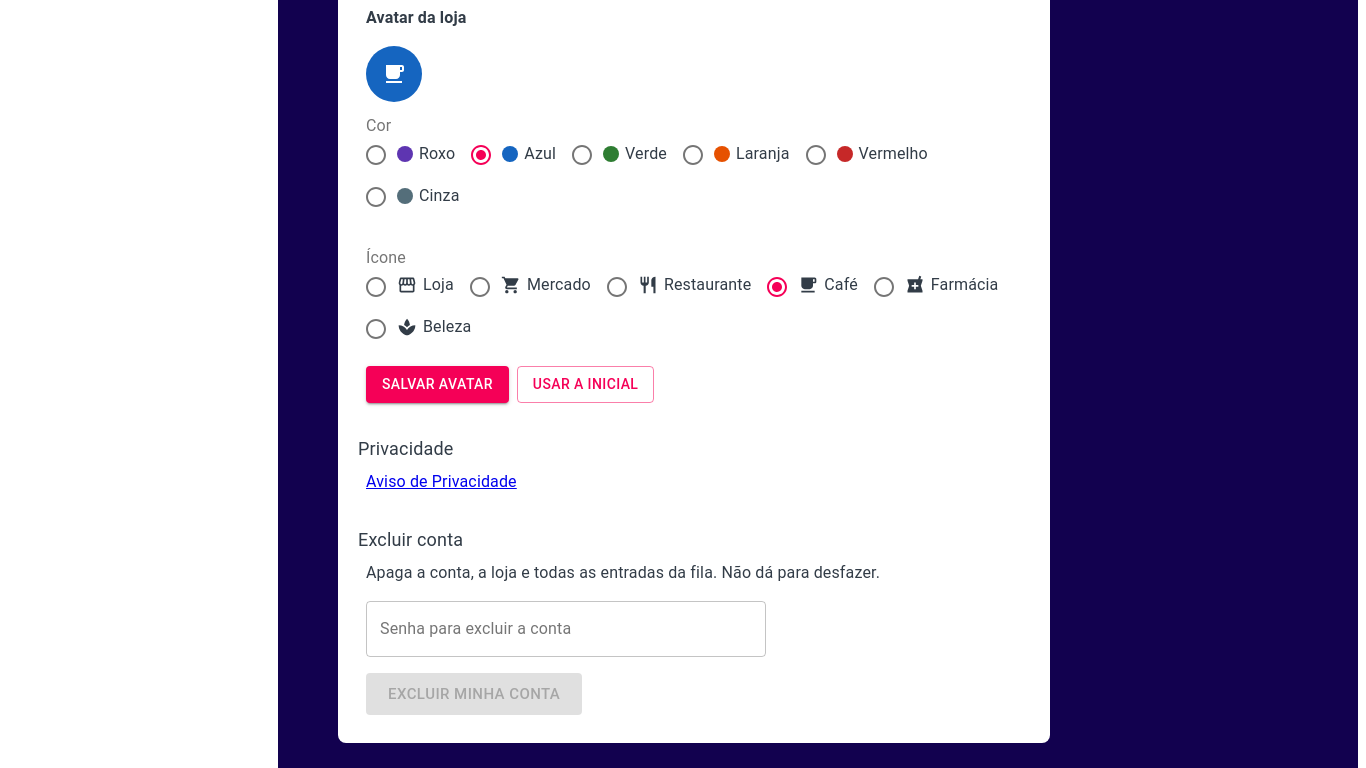
Avatar da loja no Perfil › "Usar a inicial": envia os dois nulos, avisa e a barra volta à inicial
(page scrolled)
Step 1. Click the button "Usar a inicial" → (586, 385), box [517,366,654,403]
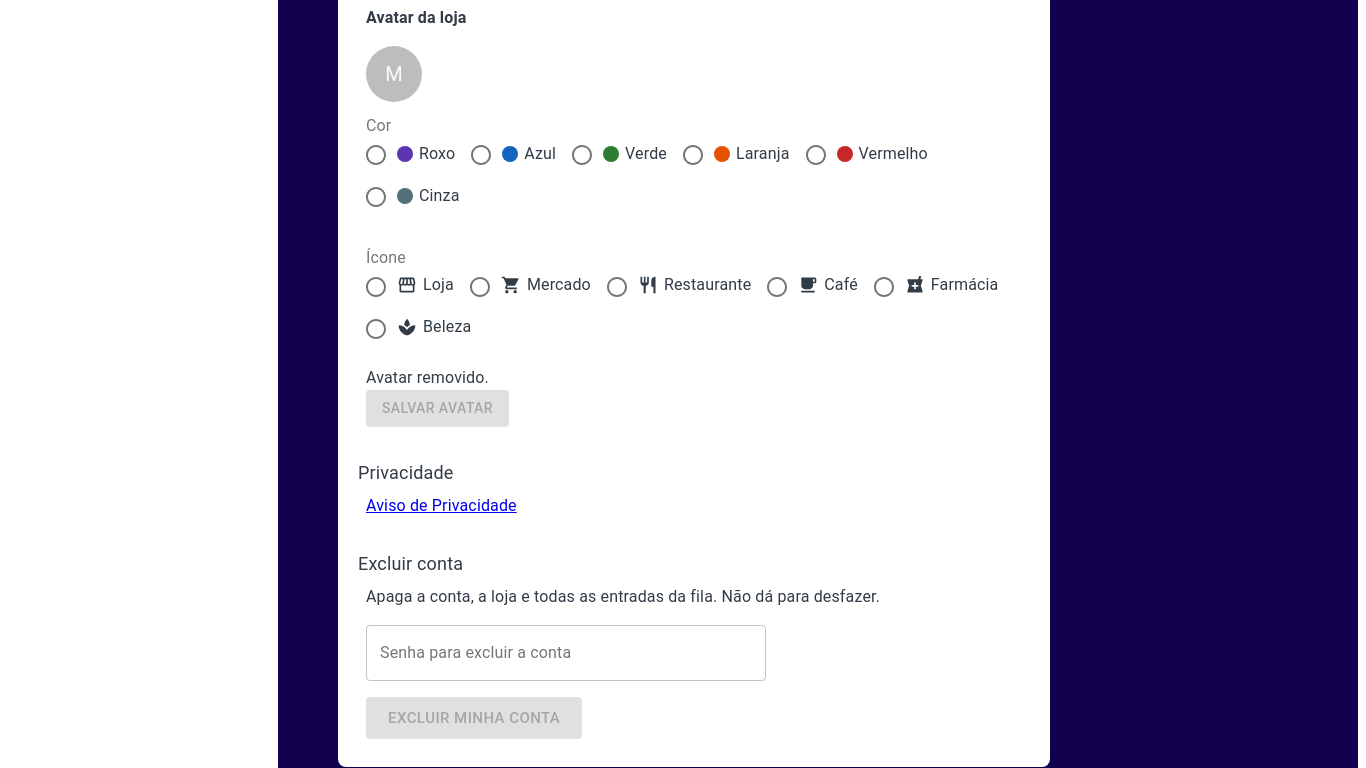
Now the text "Avatar removido." is shown, box [366,368,489,388]
Now the button "Usar a inicial" is gone
